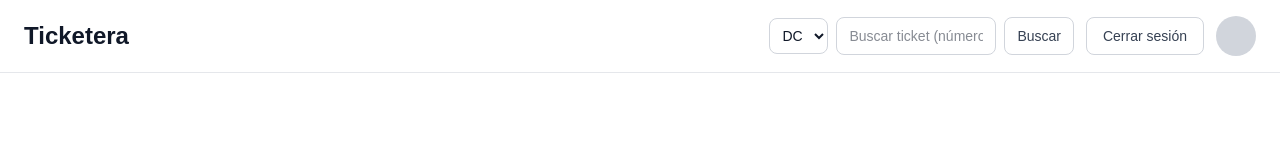
Test: HomeHeader search › shows a validation message for a prefixed or non-digit input
The width and height of the screenshot is (1280, 160).
In the field named "Buscar ticket por número": (916, 36) [836,17,996,55], type "DC-1"
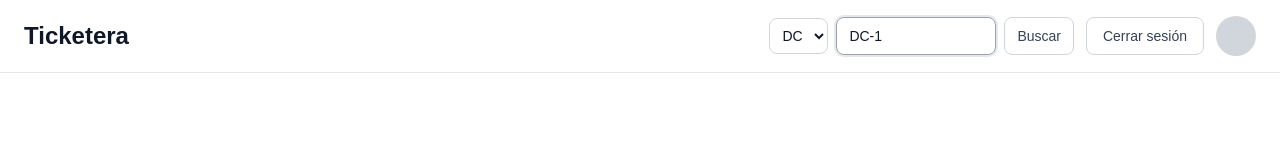
Click the button "Buscar": (1039, 36) [1004,17,1074,55]
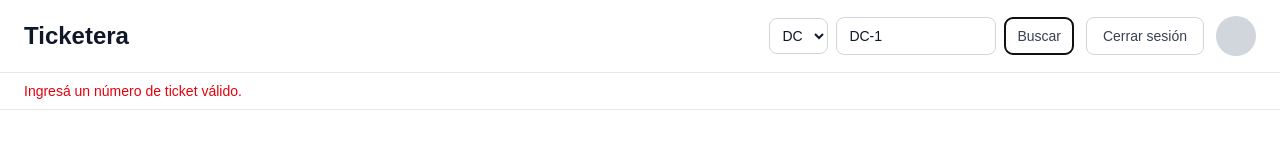
Now the text "Ingresá un número de ticket válido." is shown, box [0,73,1279,110]
